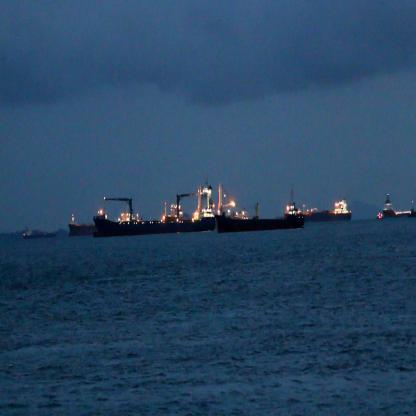Container Ship: (93, 182, 216, 236), (216, 182, 306, 231), (305, 196, 353, 222), (383, 190, 415, 219), (68, 211, 96, 237), (21, 222, 58, 240), (375, 212, 384, 221)
